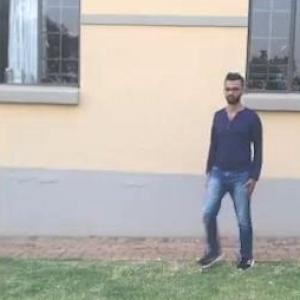follow: (207, 73, 263, 265)
